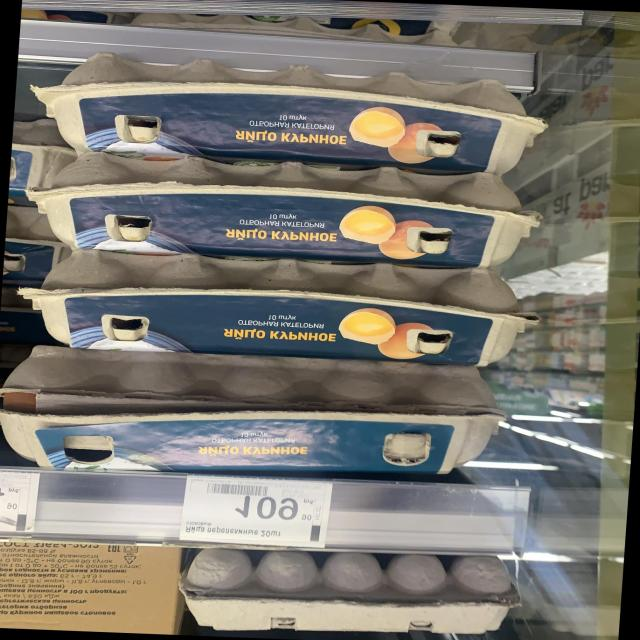organic waste: (0, 347, 513, 486), (33, 57, 550, 179), (27, 153, 541, 273), (20, 252, 538, 368), (8, 117, 62, 206)
